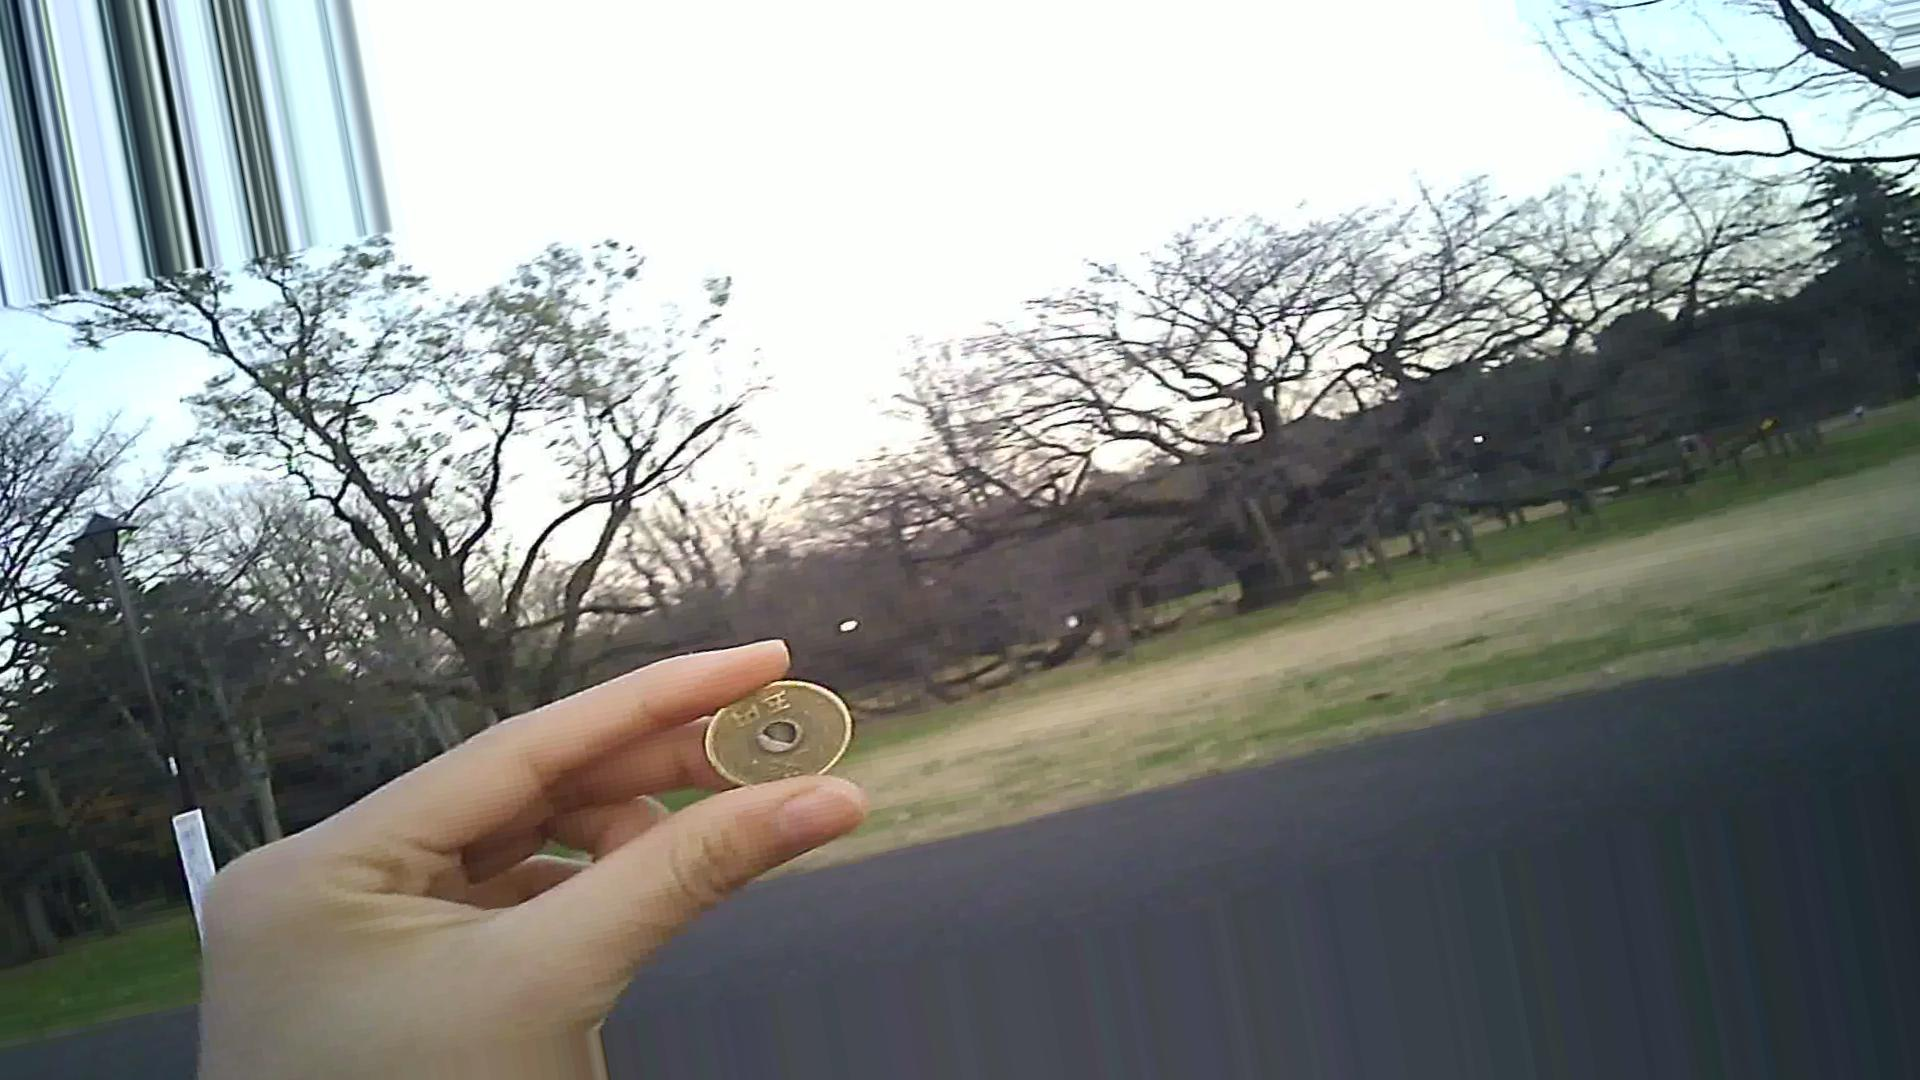5 Yen: (702, 671, 865, 795)
